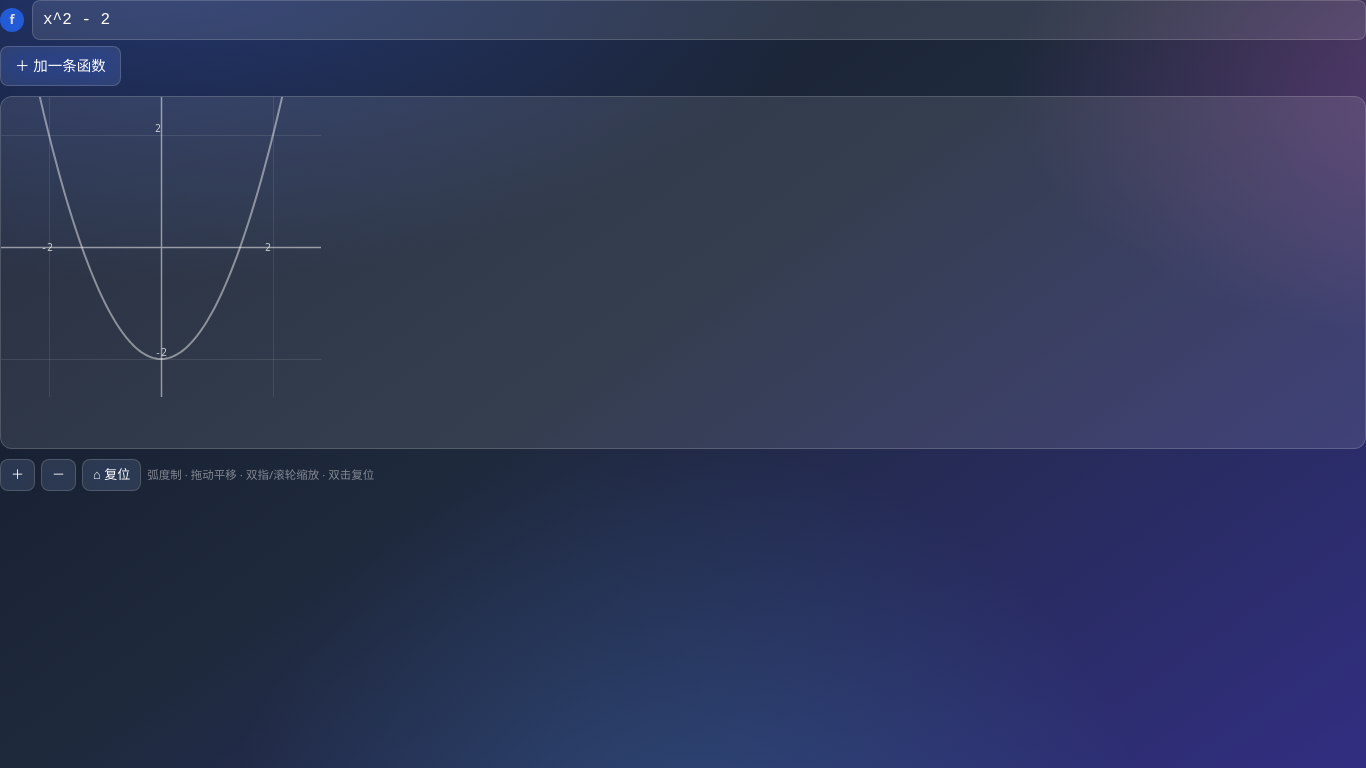
Test: 函数绘图界面 › 合法表达式不报错且可加第二条
Step 1. Replace the text in the field named "函数 f 表达式" with "x^2" → (699, 20), box [32,0,1365,40]
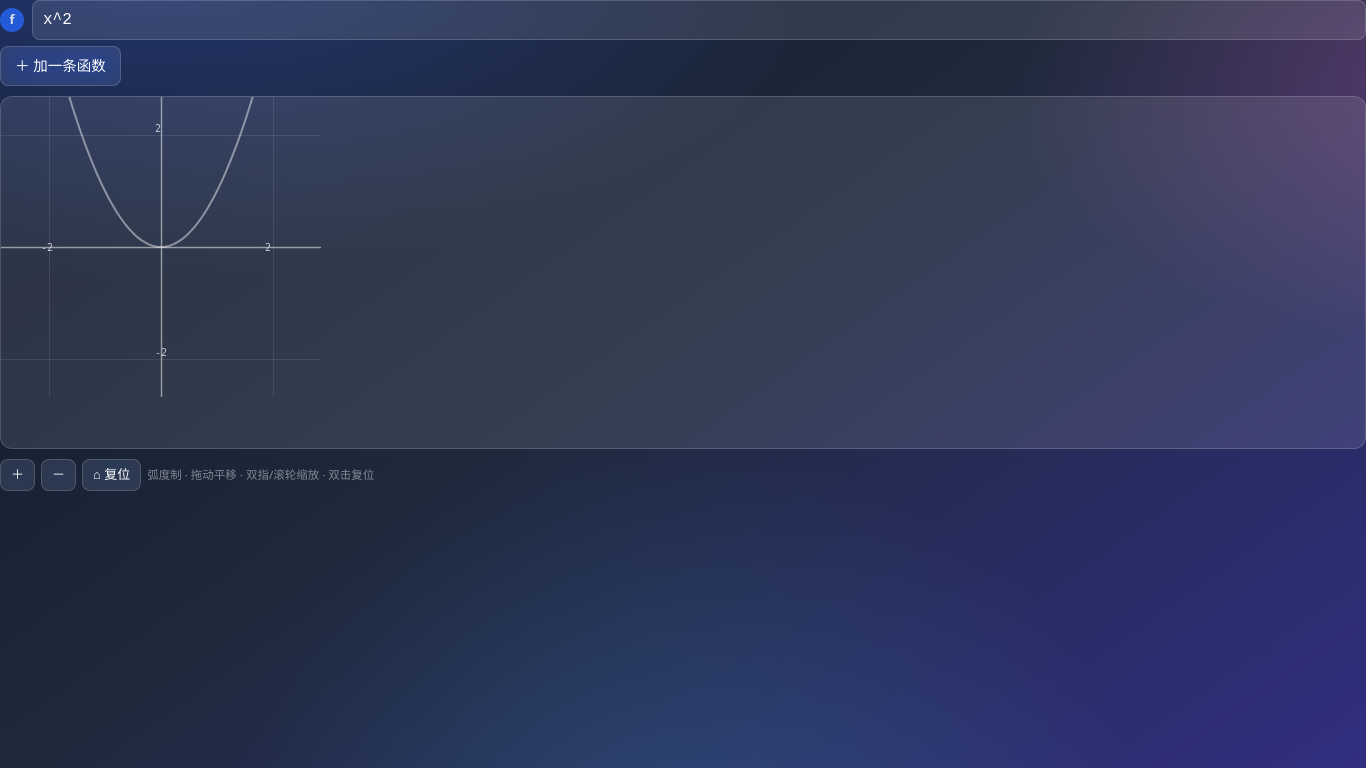
Step 2. Click the button "＋ 加一条函数" → (60, 66), box [0,46,121,86]
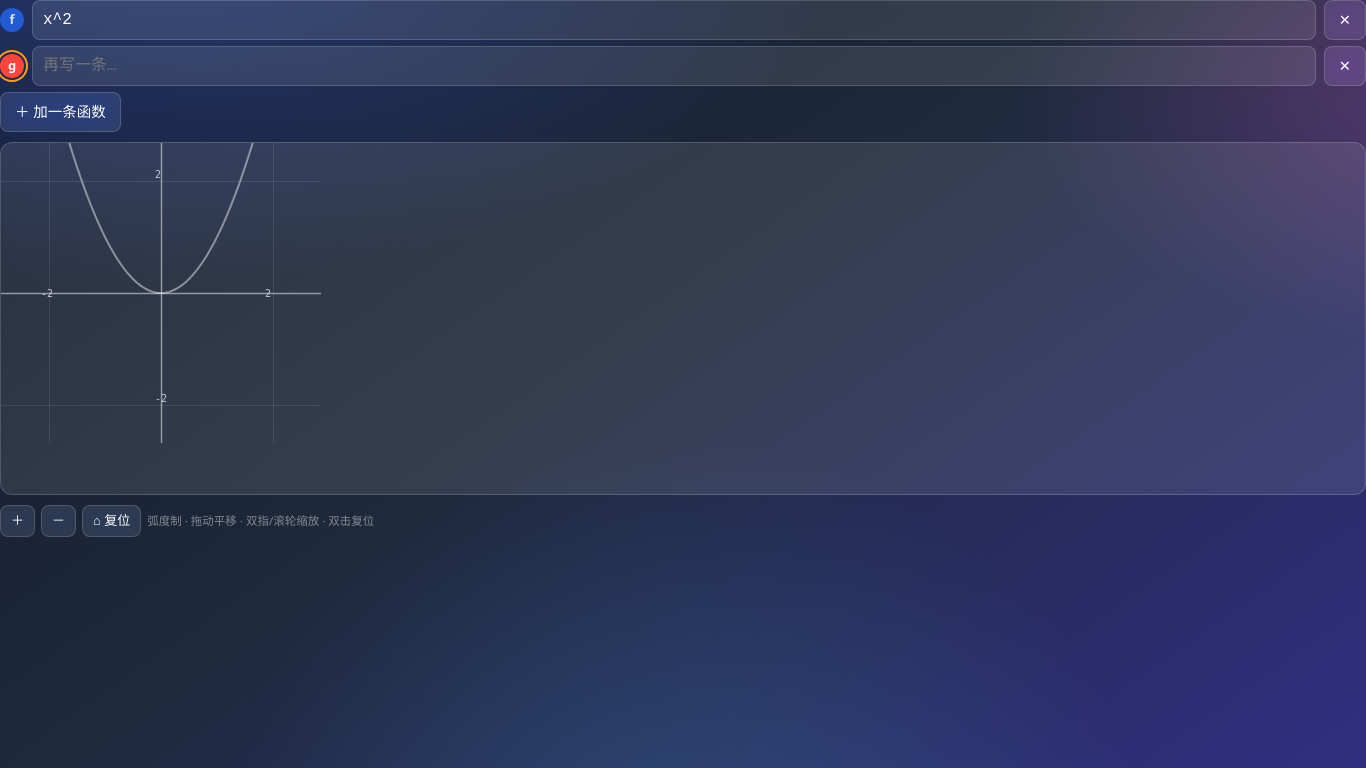
Check: the field named "函数 g 表达式" is shown, box [32,46,1316,86]
